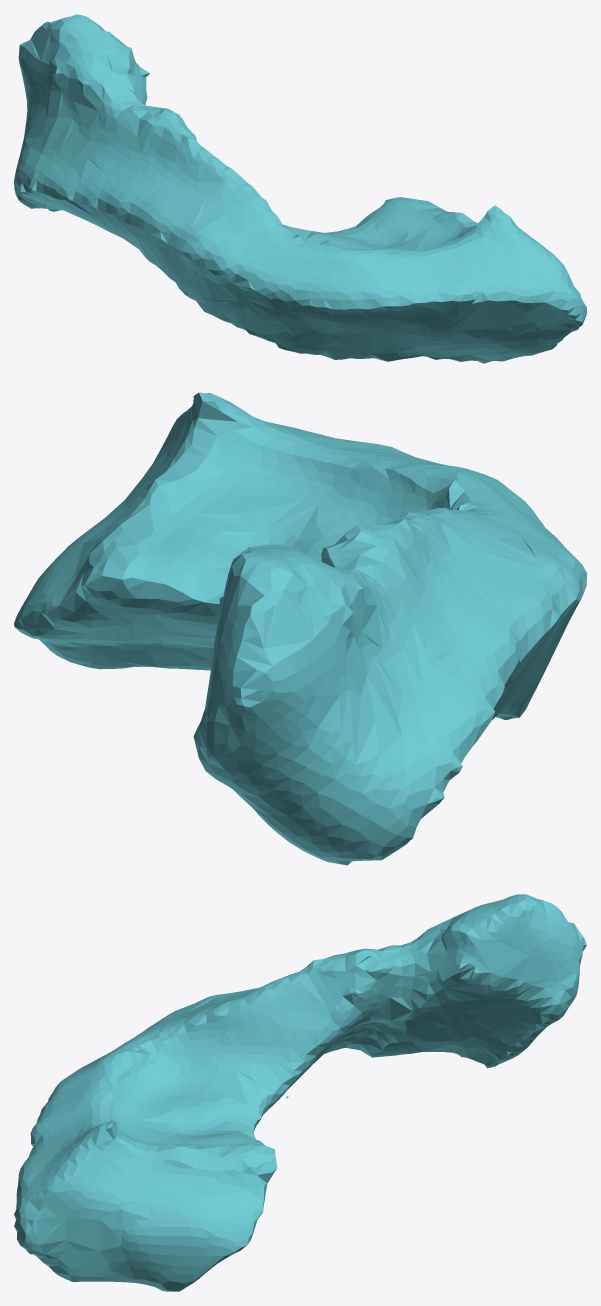
Rendered from Model_10119_LH__Prostriate_area_(ProSt).obj.
3 renders of one model, top to bottom at view 1: azimuth 30°, elevation 25°; view 2: azimuth 150°, elevation 25°; view 3: azimuth 270°, elevation 25°, orthographic. The views are drawn at different scales.
Bounding box in the file's own units: 3.74 × 2.56 × 4.94.
